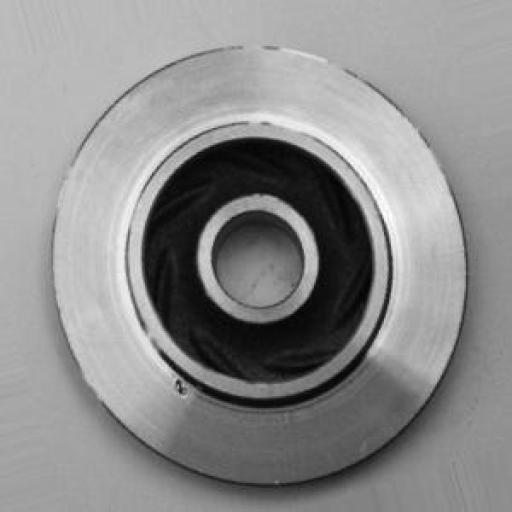defect: (154, 364, 209, 419)
